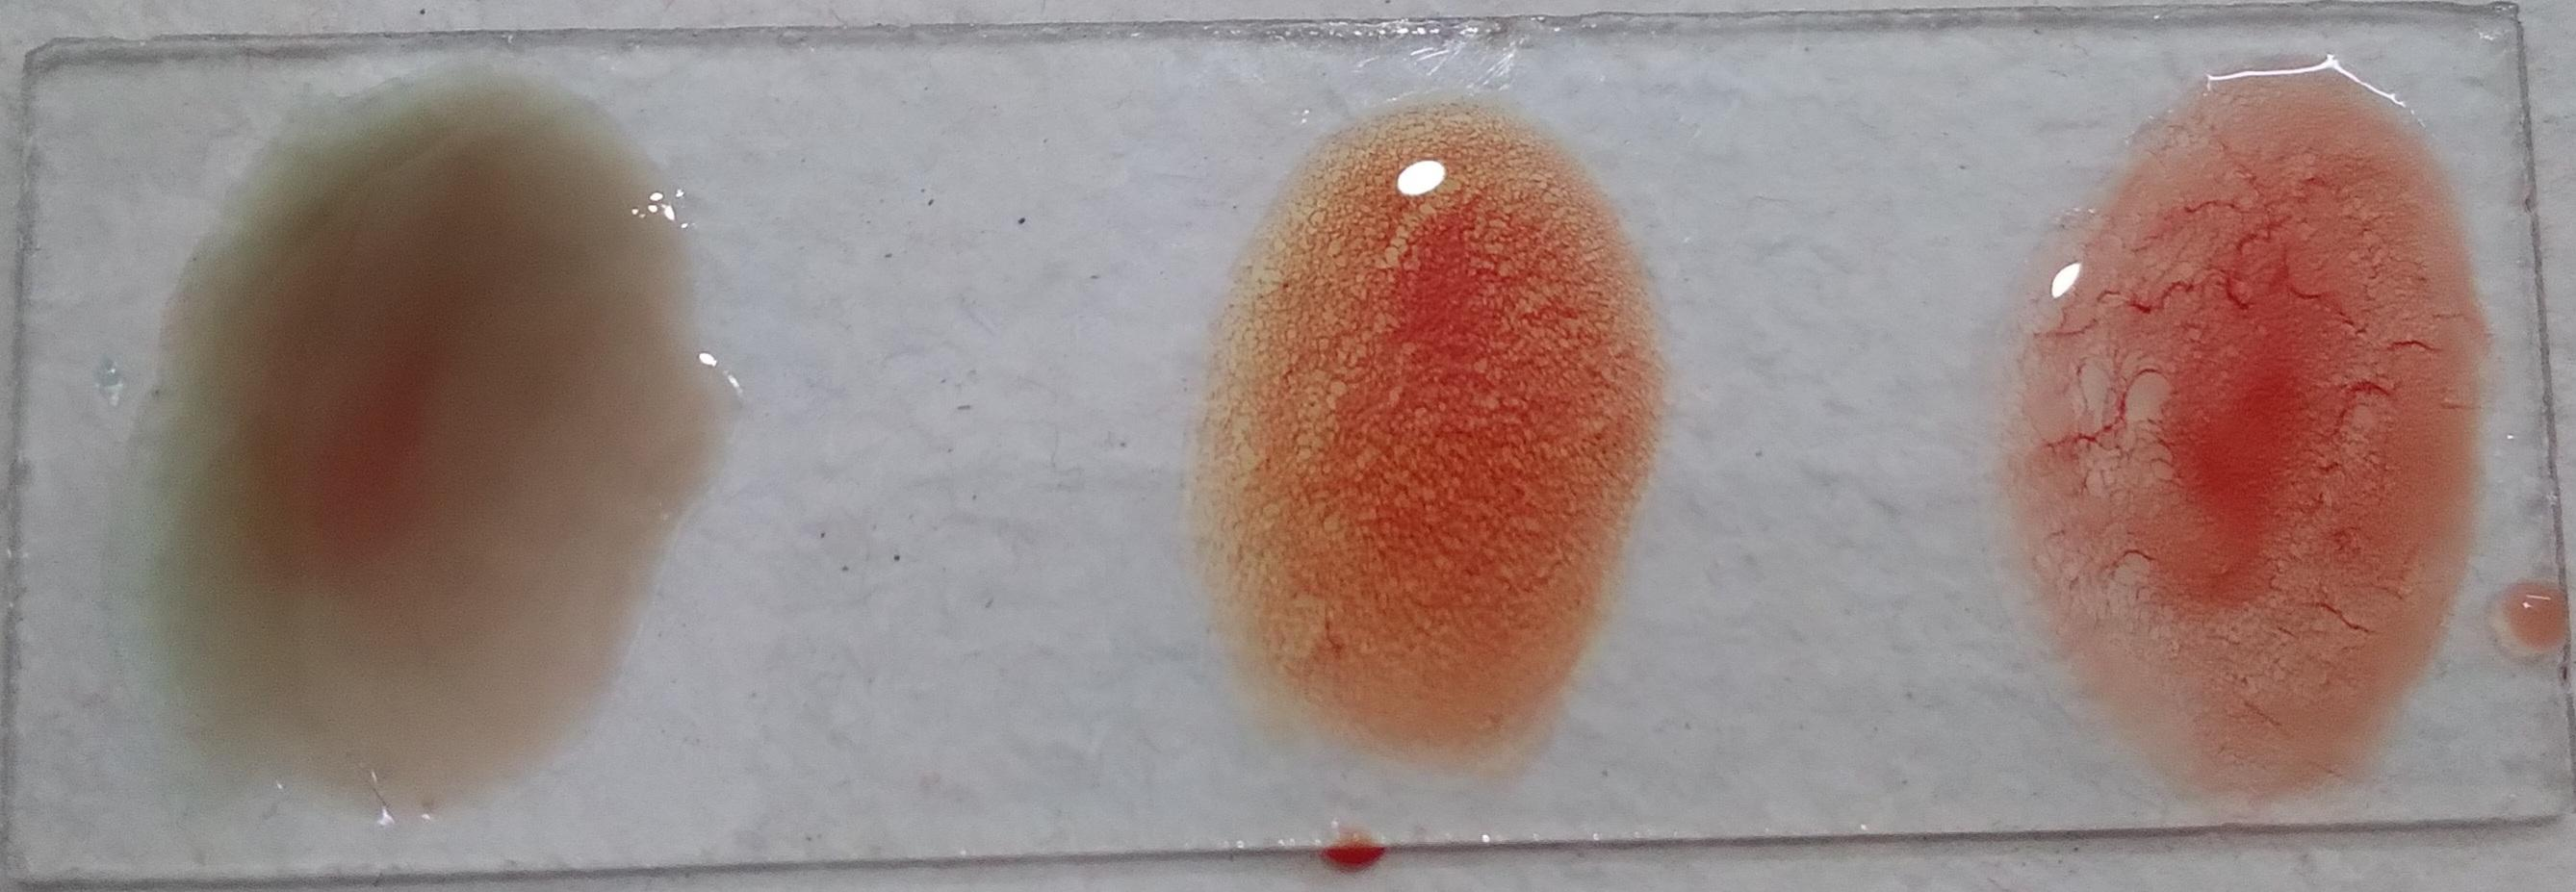B: (927, 136, 1377, 792)
D: (92, 99, 568, 825)
